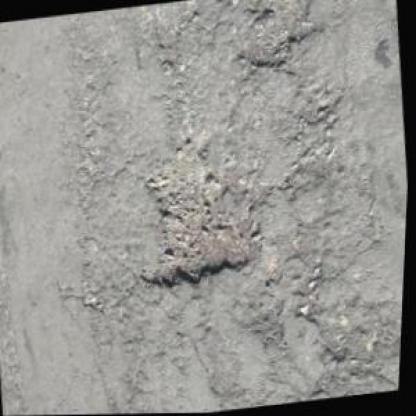pothole: (127, 141, 270, 297), (236, 14, 318, 73)
